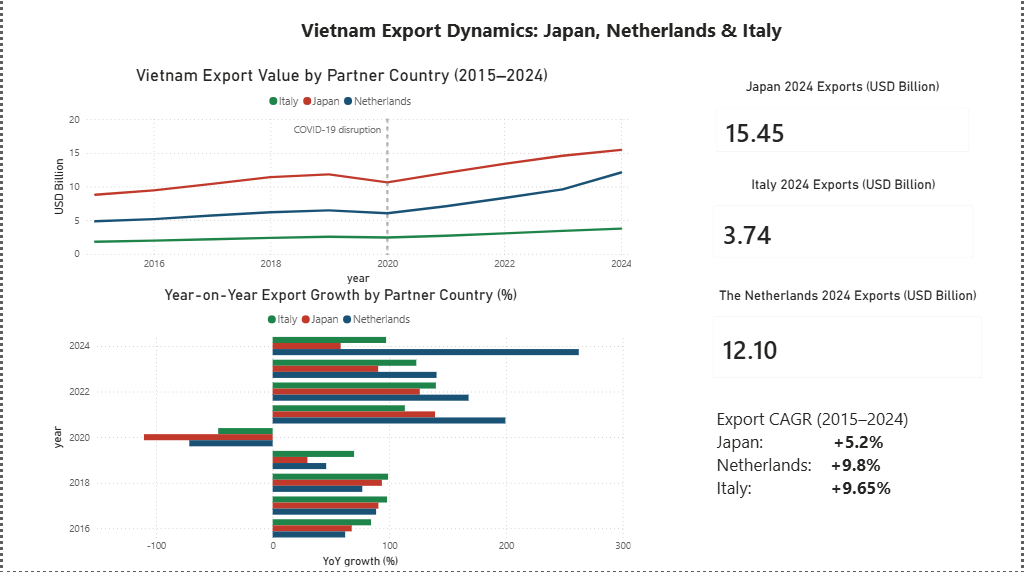

What the dashboard file says about the page in this screenshot:
{"tool":"powerbi","page":{"name":"Overview","canvas":[1280,720],"ordinal":0},"visuals":[{"type":"lineChart","title":"Vietnam Export Value by Partner Country (2015–2024)","fields":{"Category":["clean_combined.year"],"Y":["Sum(clean_combined.trade_value_billion)"],"Series":["clean_combined.partner"]},"box":[56.7,82.6,738.5,280.2],"z":0},{"type":"cardVisual","title":"Japan 2024 Exports (USD Billion)","fields":{"Data":["Sum(clean_combined.trade_value_billion)"]},"box":[879.6,100.2,353.1,109.8],"z":1000},{"type":"cardVisual","title":"Italy 2024 Exports (USD Billion)","fields":{"Data":["Sum(clean_combined.trade_value_billion)"]},"box":[874.8,222.7,362.7,120.9],"z":2000},{"type":"cardVisual","title":"The Netherlands 2024 Exports (USD Billion)","fields":{"Data":["Sum(clean_combined.trade_value_billion)"]},"box":[874.8,362.7,373.8,132],"z":3000},{"type":"clusteredBarChart","title":"Year-on-Year Export Growth by Partner Country (%)","fields":{"Series":["clean_combined.partner"],"Category":["clean_combined.year"],"Y":["Sum(clean_combined.yoy_growth_pct)"]},"box":[54.4,360.6,739.4,358.6],"z":4000},{"type":"textbox","box":[369.3,17.8,655.9,48.6],"z":5000},{"type":"textbox","box":[892.3,507.4,307,155.9],"z":6000}]}

Visuals, with their boxes in screenshot pixels (x1, y1, x2, y2), scaled from the page's 1280x720 canvas onto the 1025x572 screenshot:
"Vietnam Export Value by Partner Country (2015–2024)" lineChart: (x1=45, y1=66, x2=637, y2=288)
"Japan 2024 Exports (USD Billion)" cardVisual: (x1=704, y1=80, x2=987, y2=167)
"Italy 2024 Exports (USD Billion)" cardVisual: (x1=701, y1=177, x2=991, y2=273)
"The Netherlands 2024 Exports (USD Billion)" cardVisual: (x1=701, y1=288, x2=1000, y2=393)
"Year-on-Year Export Growth by Partner Country (%)" clusteredBarChart: (x1=44, y1=286, x2=636, y2=571)
textbox: (x1=296, y1=14, x2=821, y2=53)
textbox: (x1=715, y1=403, x2=960, y2=527)
